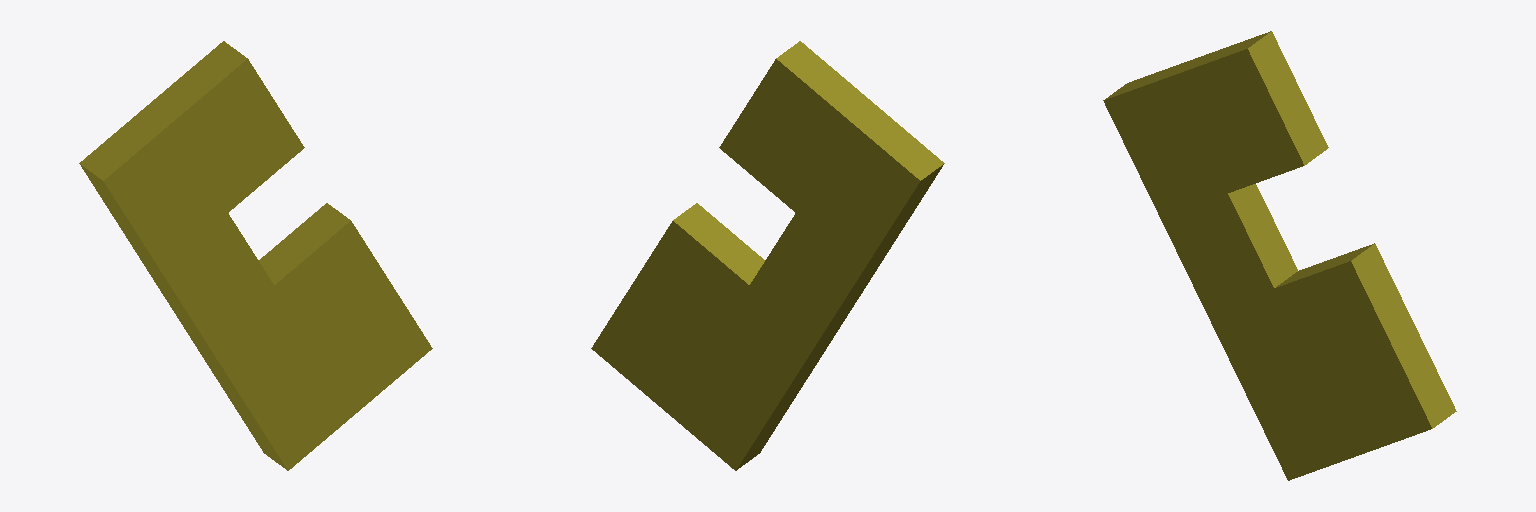
3 renders of one model, left to right at view 1: azimuth 30°, elevation 25°; view 2: azimuth 150°, elevation 25°; view 3: azimuth 330°, elevation 25°, orthographic.
Parts seen in each view (by area): view 1: parts6_立方体.004; view 2: parts6_立方体.004; view 3: parts6_立方体.004.
Part boxes in pixels (x1,y1,x2,y2): parts6_立方体.004: (79,41,432,470); parts6_立方体.004: (591,41,944,470); parts6_立方体.004: (1103,31,1456,480).
Bounding box in the file's own units: 0.5409 × 0.6629 × 0.0689.
Materials: 1 (1 with a texture image).